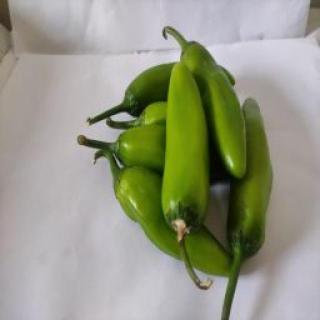Cabai Hijau: (217, 94, 276, 320), (160, 62, 215, 292)
